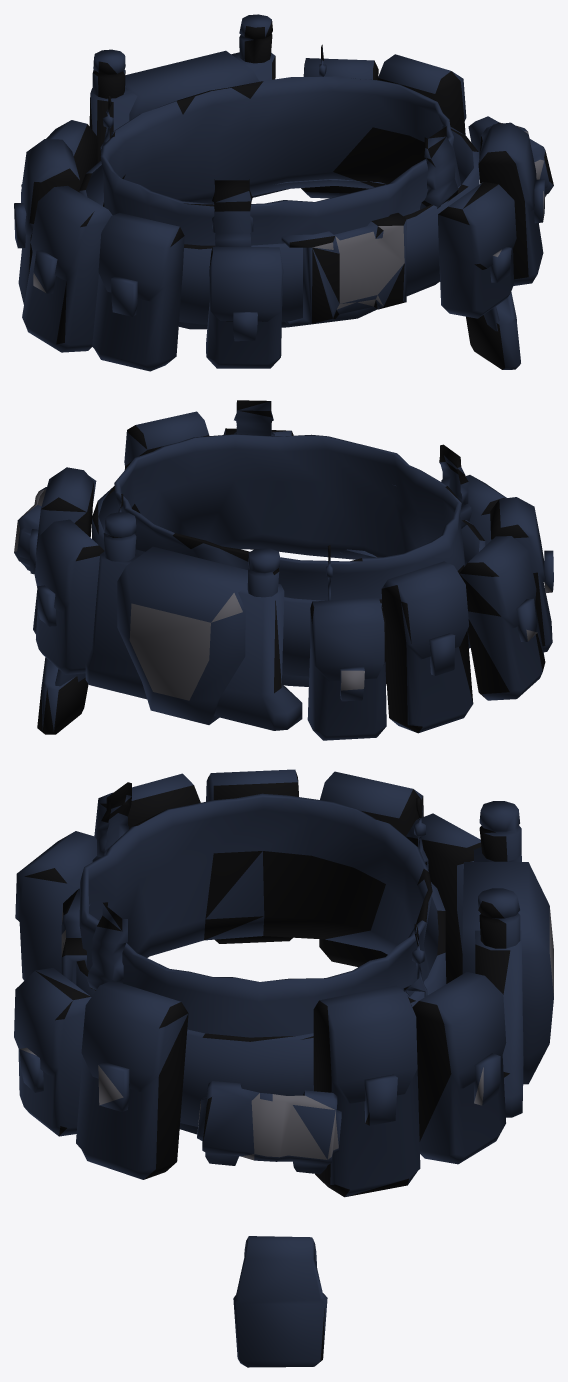
File: prota.belt.glb
3 views of the same model, one above another, from view 1: azimuth 30°, elevation 25°; view 2: azimuth 150°, elevation 25°; view 3: azimuth 270°, elevation 25° (orthographic). The views are drawn at different scales.
Parts seen in each view (by area): view 1: Prota_Belt; view 2: Prota_Belt; view 3: Prota_Belt.
Boxes of the visible parts, x1,y1,x2,y2 form: Prota_Belt: (14,14,553,371); Prota_Belt: (14,400,553,740); Prota_Belt: (14,769,553,1367).
Size of the model in its own units: 0.4184 by 0.248 by 0.3194.
